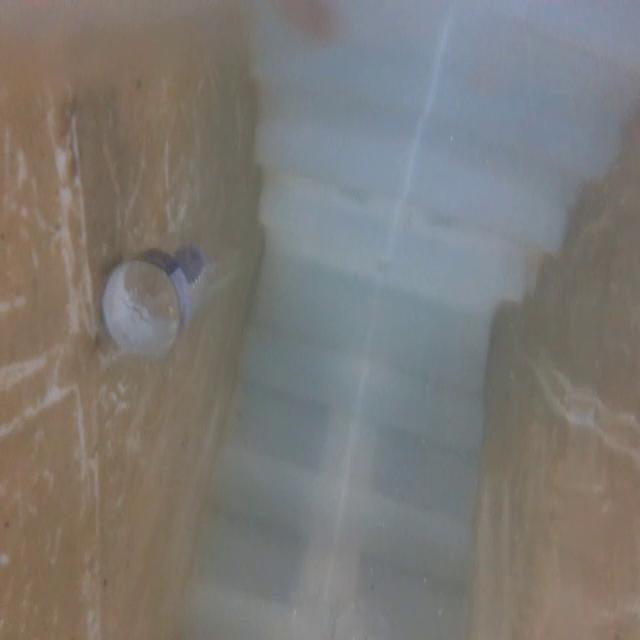plastic bottle: (74, 212, 230, 432)
